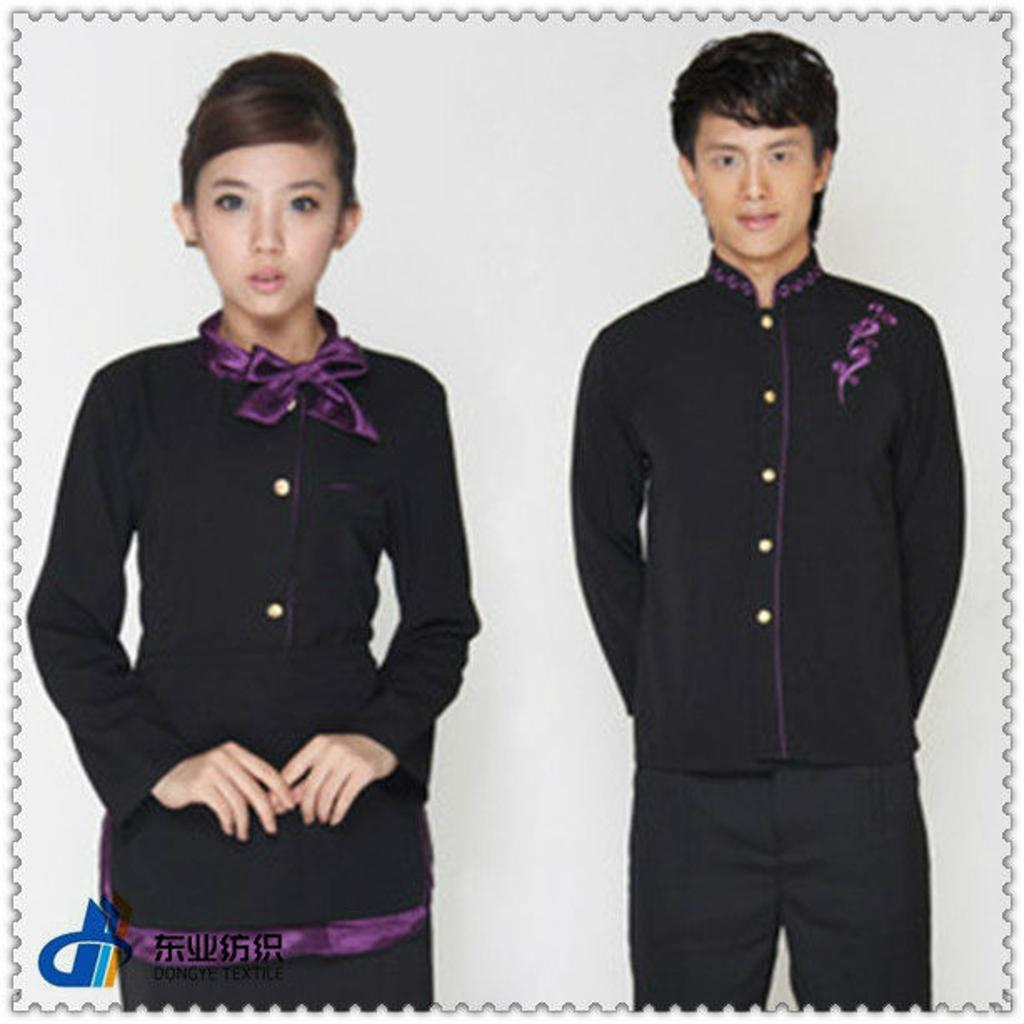face: (192, 128, 348, 318), (690, 76, 814, 258)
